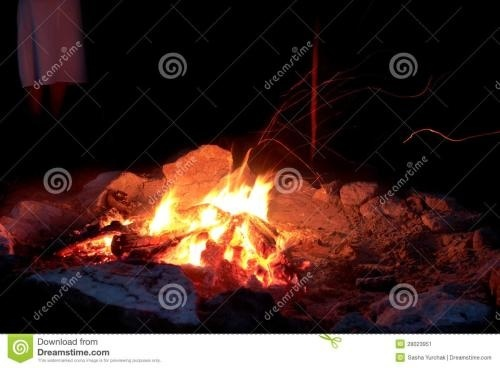fire: (142, 149, 285, 277), (63, 212, 132, 261)
